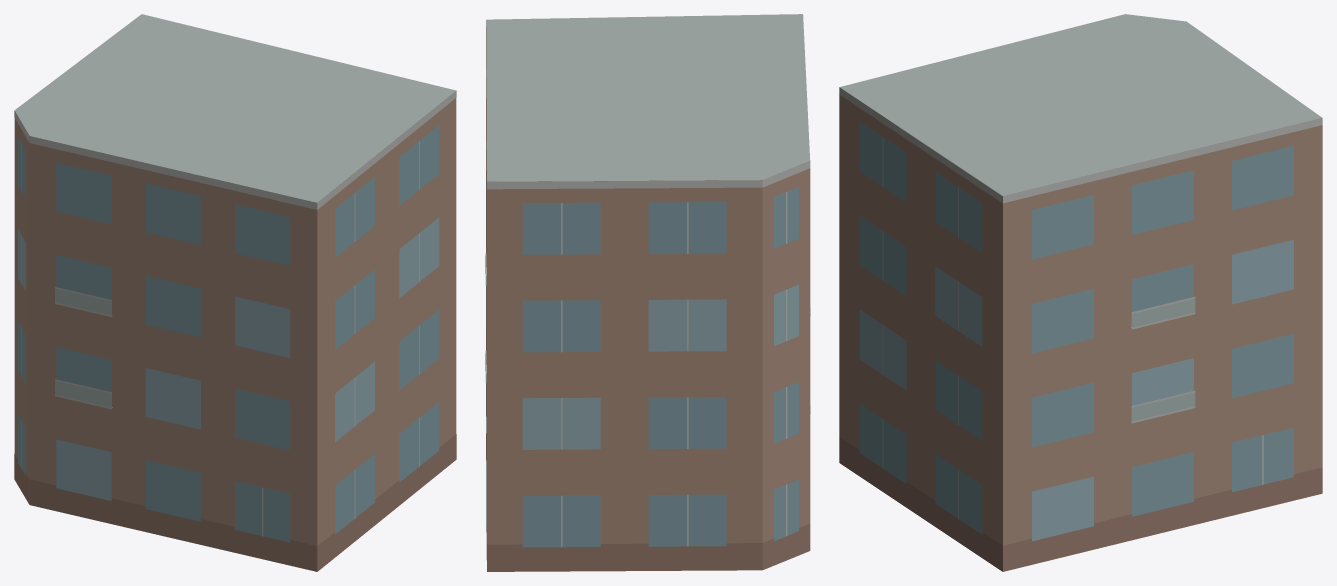
Rendered from survey-upis-32668414.glb.
The picture shows the model from 3 angles, left to right: view 1: azimuth 30°, elevation 25°; view 2: azimuth 150°, elevation 25°; view 3: azimuth 270°, elevation 25°; orthographic projection. The views are drawn at different scales.
Parts seen in each view (by area): view 1: survey-upis-32668414.tmp; view 2: survey-upis-32668414.tmp; view 3: survey-upis-32668414.tmp.
Boxes of the visible parts, bbox=[...] form: survey-upis-32668414.tmp: bbox=[14, 14, 456, 571]; survey-upis-32668414.tmp: bbox=[485, 14, 810, 571]; survey-upis-32668414.tmp: bbox=[839, 14, 1322, 571].
Bounding box in the file's own units: 13.22 × 12.7 × 14.82.
